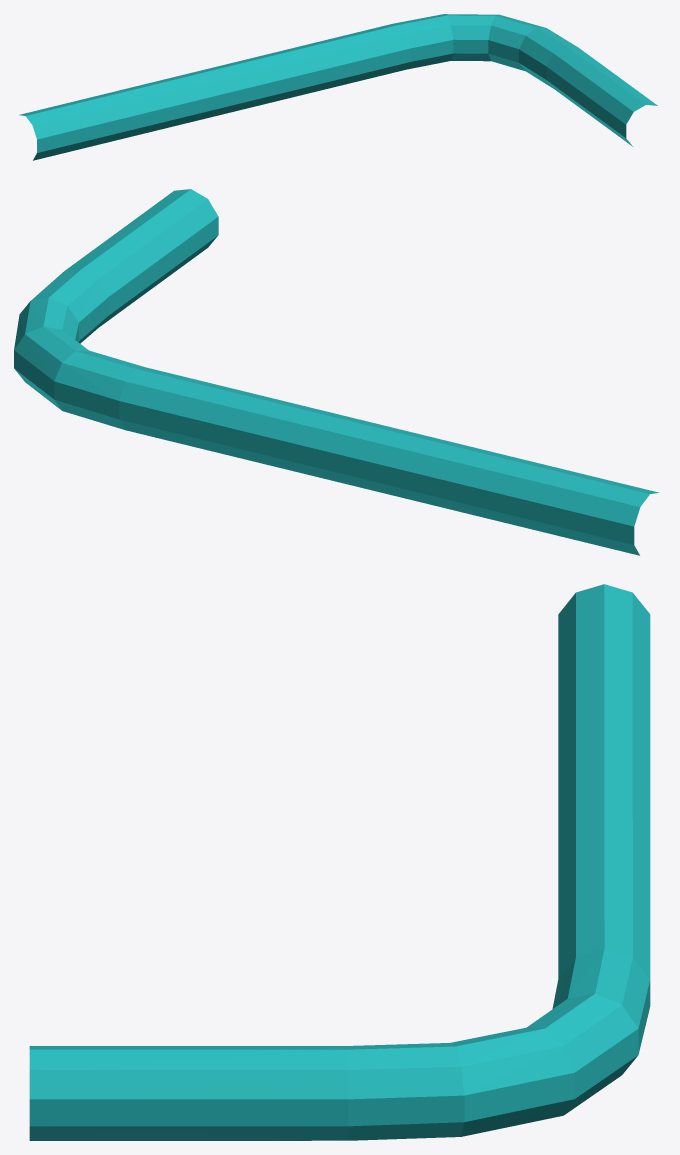
File: 低多边形简约青色L型管道_guanzib.glb
3 views of the same model, one above another, from view 1: azimuth 30°, elevation 25°; view 2: azimuth 150°, elevation 25°; view 3: azimuth 270°, elevation 25° (orthographic). The views are drawn at different scales.
Parts seen in each view (by area): view 1: guanzibnew; view 2: guanzibnew; view 3: guanzibnew.
Part boxes in pixels (bbox=[...]): guanzibnew: bbox=[19, 14, 657, 160]; guanzibnew: bbox=[14, 189, 659, 555]; guanzibnew: bbox=[29, 584, 650, 1140].
Size of the model in its own units: 2.53 by 0.2131 by 1.37.
